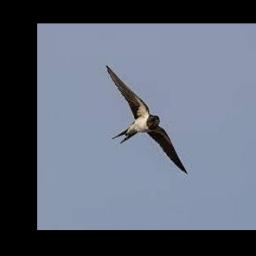Swallow: (105, 65, 188, 175)
